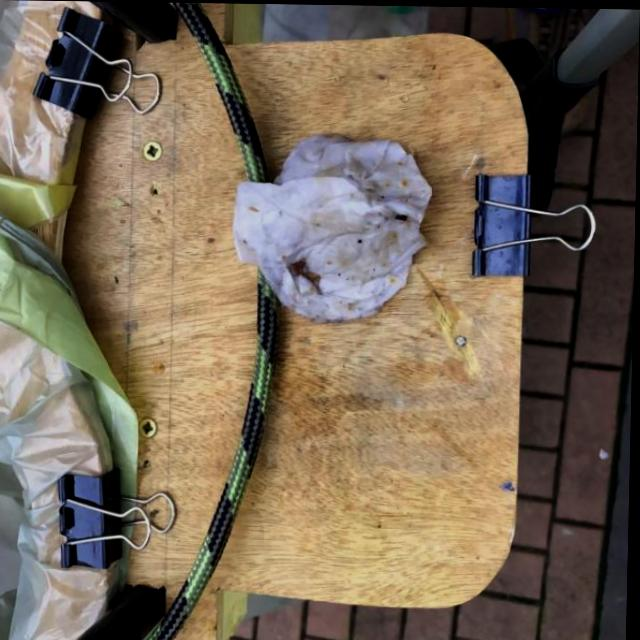Paper: (229, 130, 436, 323)
